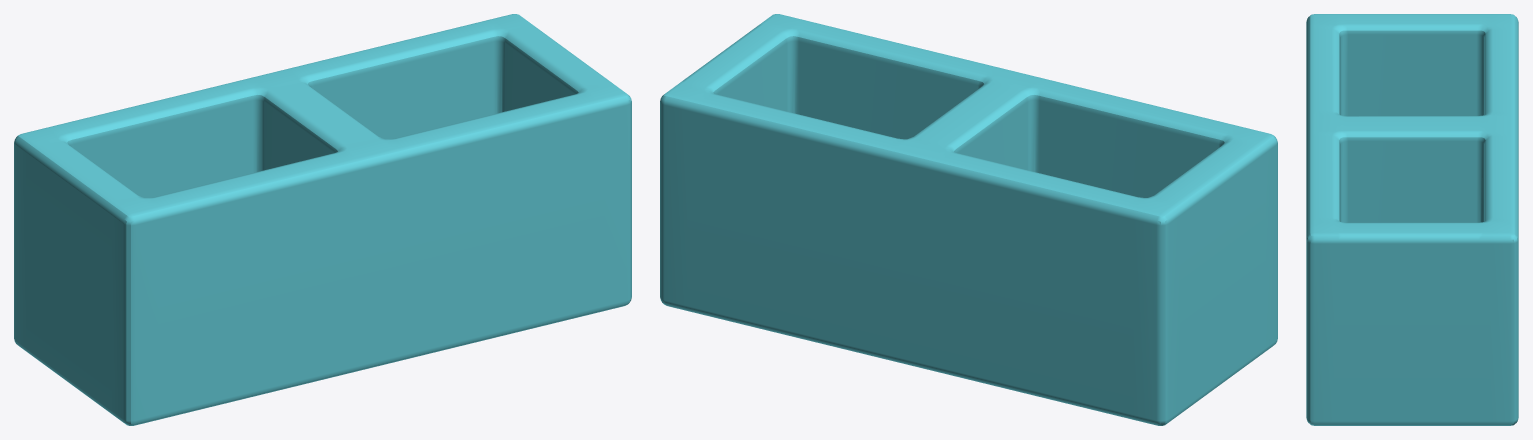
File: Tile3.fbx
3 views of the same model, side by side, from view 1: azimuth 30°, elevation 25°; view 2: azimuth 150°, elevation 25°; view 3: azimuth 270°, elevation 25° (orthographic). The views are drawn at different scales.
Parts seen in each view (by area): view 1: m3; view 2: m3; view 3: m3.
Part boxes in pixels (bbox=[...]): m3: bbox=[14, 14, 631, 425]; m3: bbox=[660, 14, 1277, 425]; m3: bbox=[1306, 14, 1518, 425].
Size of the model in its own units: 10.75 by 4.29 by 4.29.
